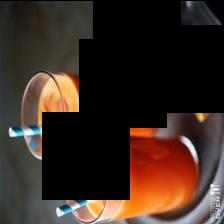orange: (63, 131, 200, 223), (156, 23, 217, 121), (67, 74, 159, 135)
